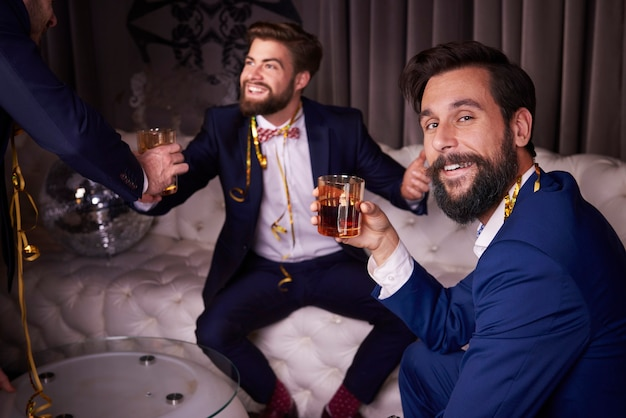alcohol: (314, 174, 363, 238), (145, 127, 182, 197)
